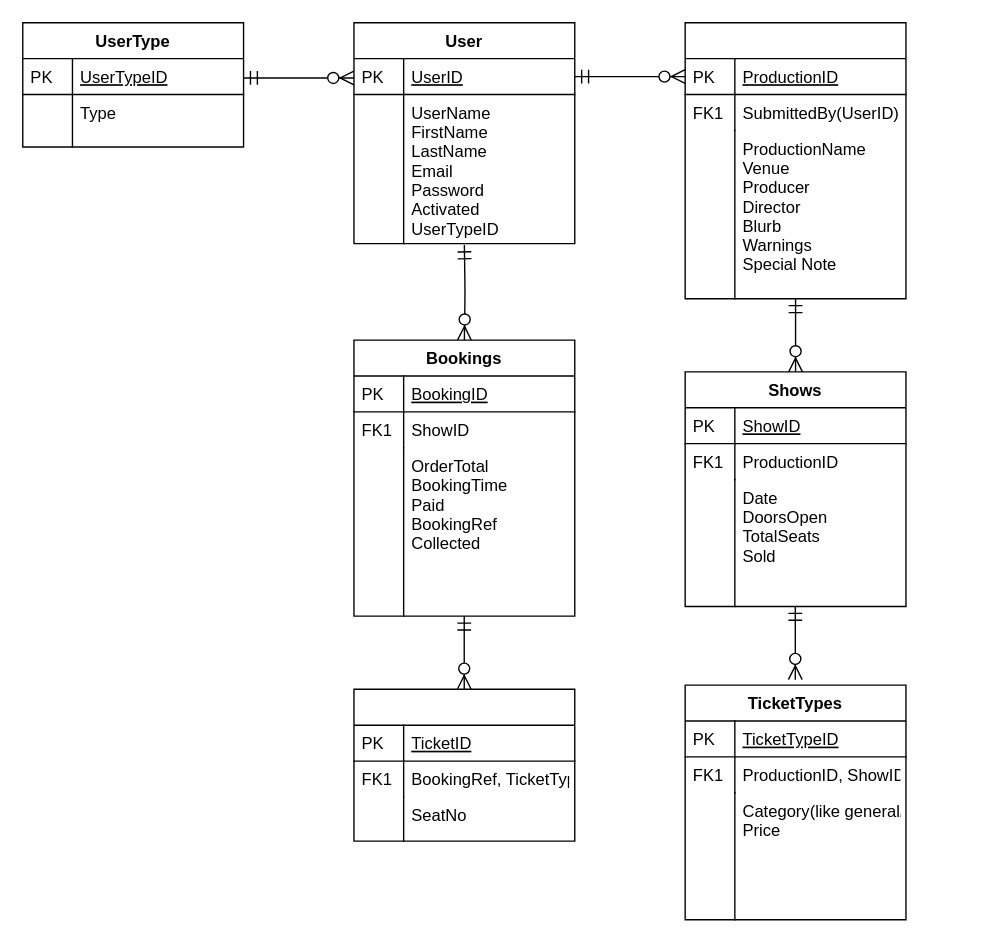
This 998x943 diagram has some shape labels left out. Each missing label, with the box of its shape:
Productions: (684, 21, 906, 299)
Tickets: (353, 688, 575, 841)
